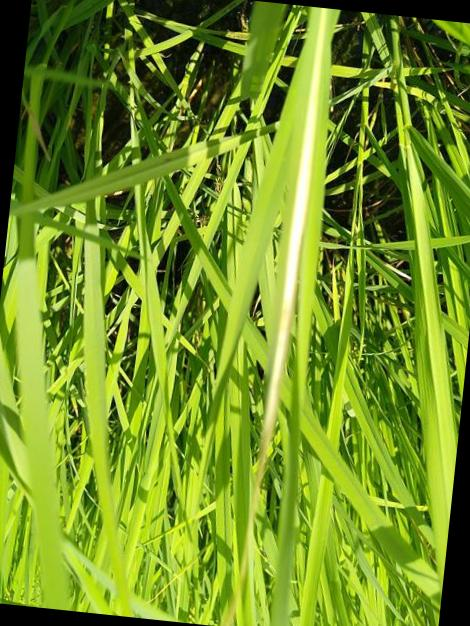Leaf Blight: (223, 7, 328, 626)
